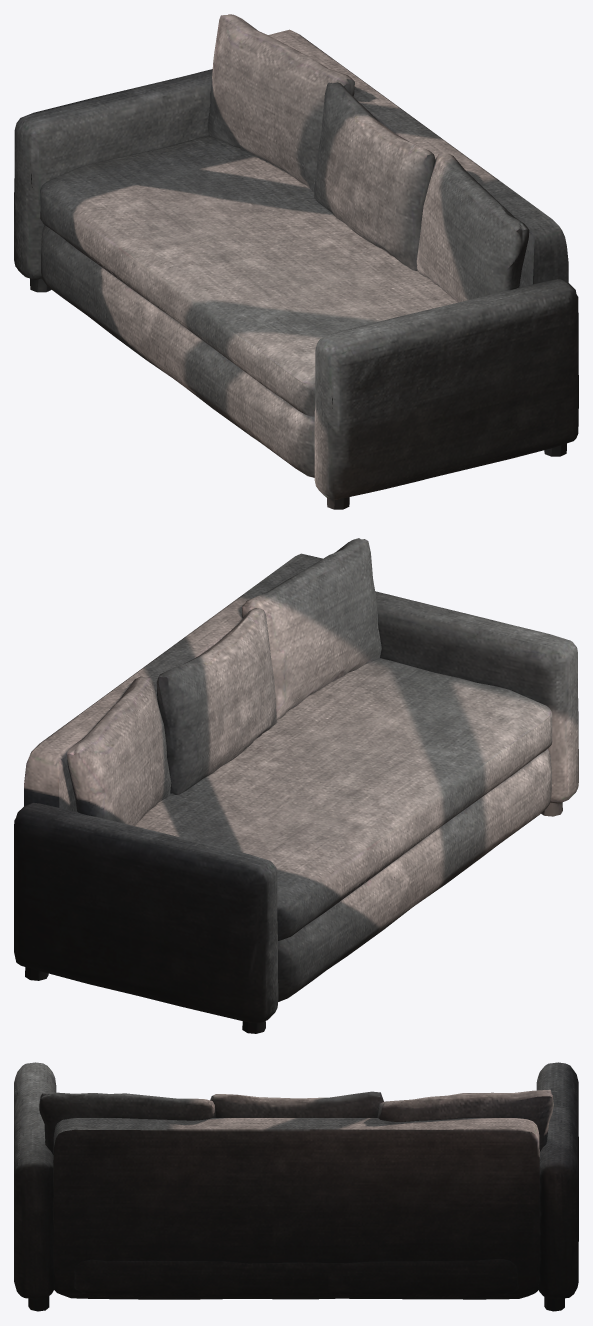
File: sofa.glb
3 renders of one model, top to bottom at view 1: azimuth 30°, elevation 25°; view 2: azimuth 150°, elevation 25°; view 3: azimuth 270°, elevation 25°, orthographic. The views are drawn at different scales.
Visible parts, largest first — view 1: sofa_Baked; view 2: sofa_Baked; view 3: sofa_Baked.
Boxes of the visible parts, <box> form: sofa_Baked: <box>14,14,578,509</box>; sofa_Baked: <box>14,538,578,1033</box>; sofa_Baked: <box>14,1062,578,1311</box>.
Bounding box in the file's own units: 1.03 × 0.8712 × 2.2.
1 material, 1 textured.
